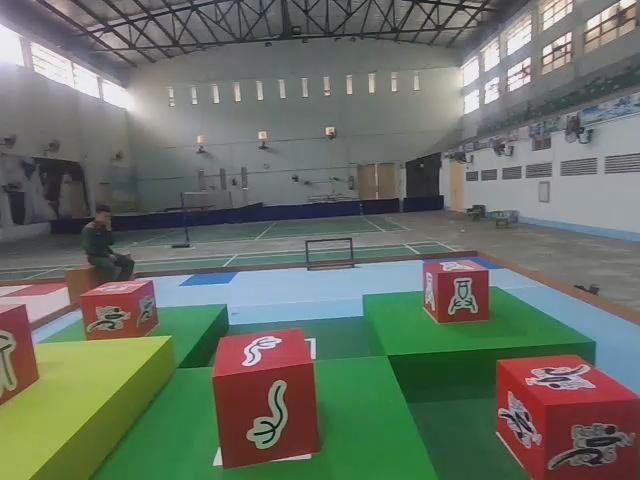R1: (492, 352, 640, 480), (76, 277, 160, 343)
R2 Real: (210, 325, 321, 470), (423, 261, 494, 324)
